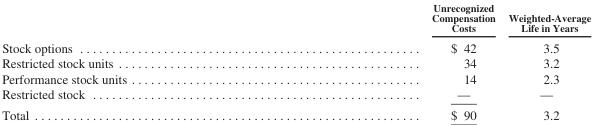table: (1, 0, 590, 121)
table column: (1, 0, 278, 121), (278, 0, 501, 121), (501, 0, 590, 121)
table column header: (1, 0, 590, 36)
table row: (1, 0, 590, 36), (1, 36, 590, 55), (1, 86, 590, 104), (1, 104, 590, 121), (1, 70, 590, 86), (1, 55, 590, 70)
